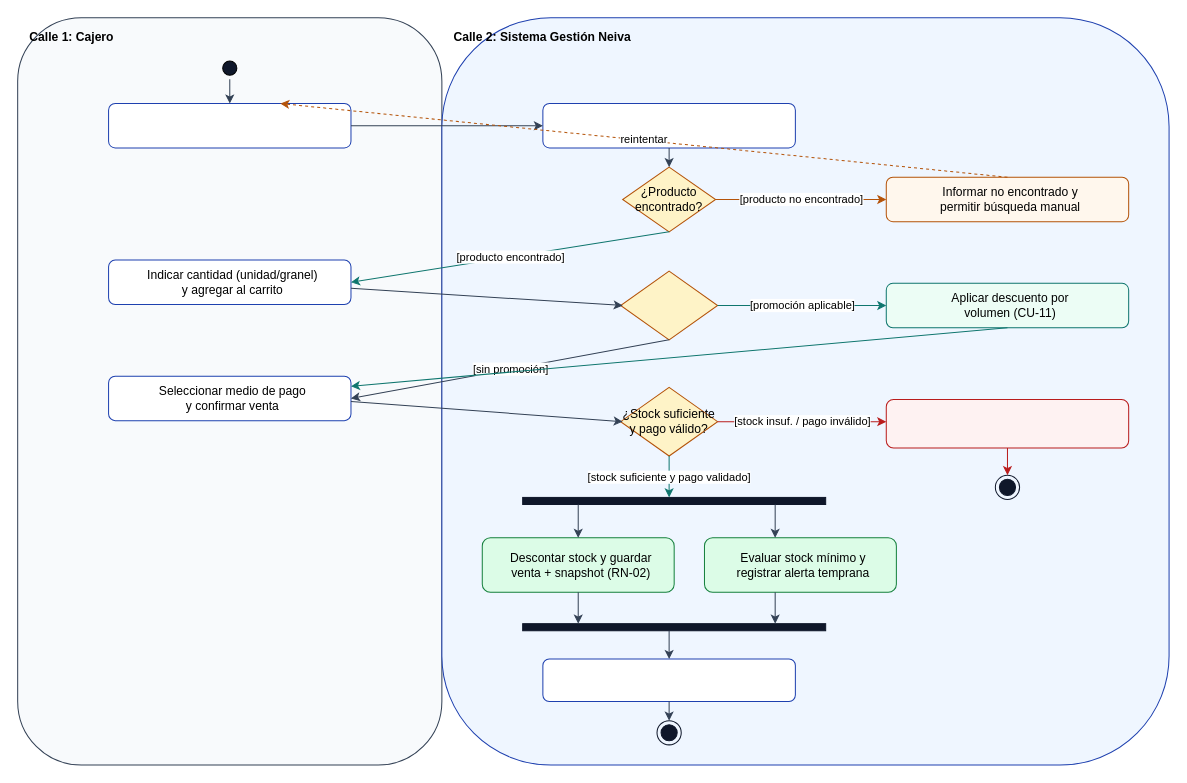
Some shapes in this 1187 by 783 pixel diagram are drawn without their labels. Here are the shapes that lost their labels. From the top down, the centre of each, then its label:
(229,125): Escanear o buscar producto y abrir carrito POS
(668,125): Buscar producto activo en catálogo de la tienda
(669,305): ¿Aplica promo por volumen?
(1007,423): Cancelar transacción (RN-01) e informar producto agotado
(668,679): Emitir comprobante con total derivado
